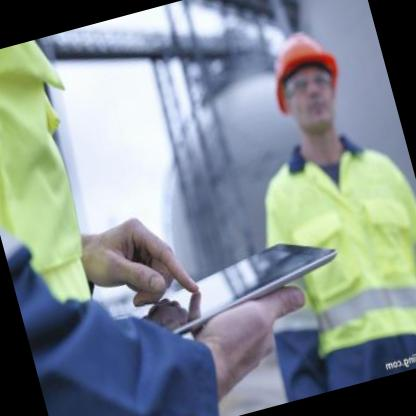bee: (250, 7, 366, 162)
